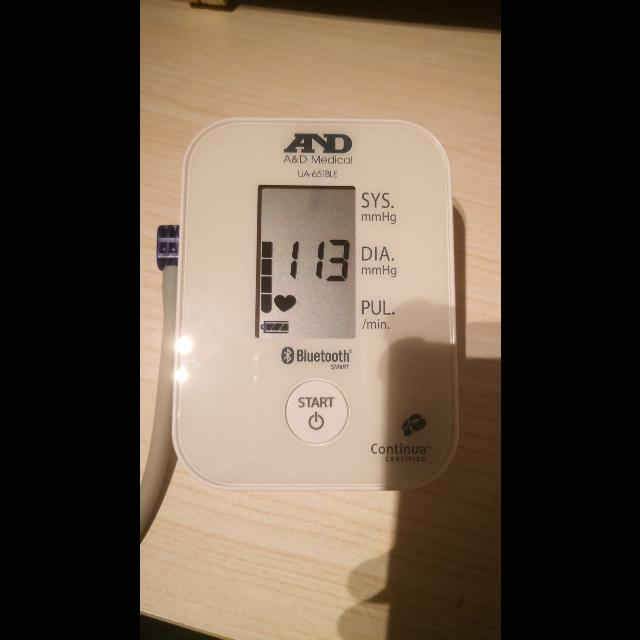Blood-Pressure-Monitor: (171, 118, 461, 488)
